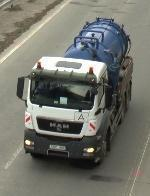truck: (16, 18, 131, 169)
